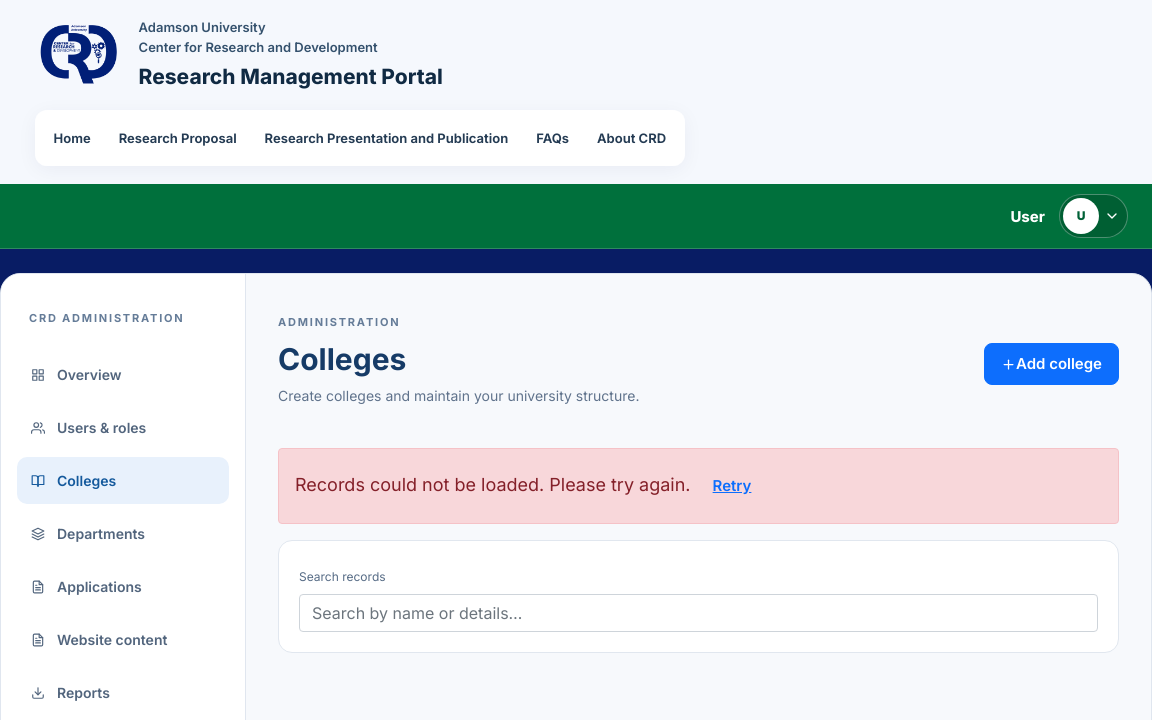
Scenario: a rejected section request stops the loader and can be retried
The width and height of the screenshot is (1152, 720).
Click the button "Retry": click(732, 486) left=696, top=466, right=768, bottom=508
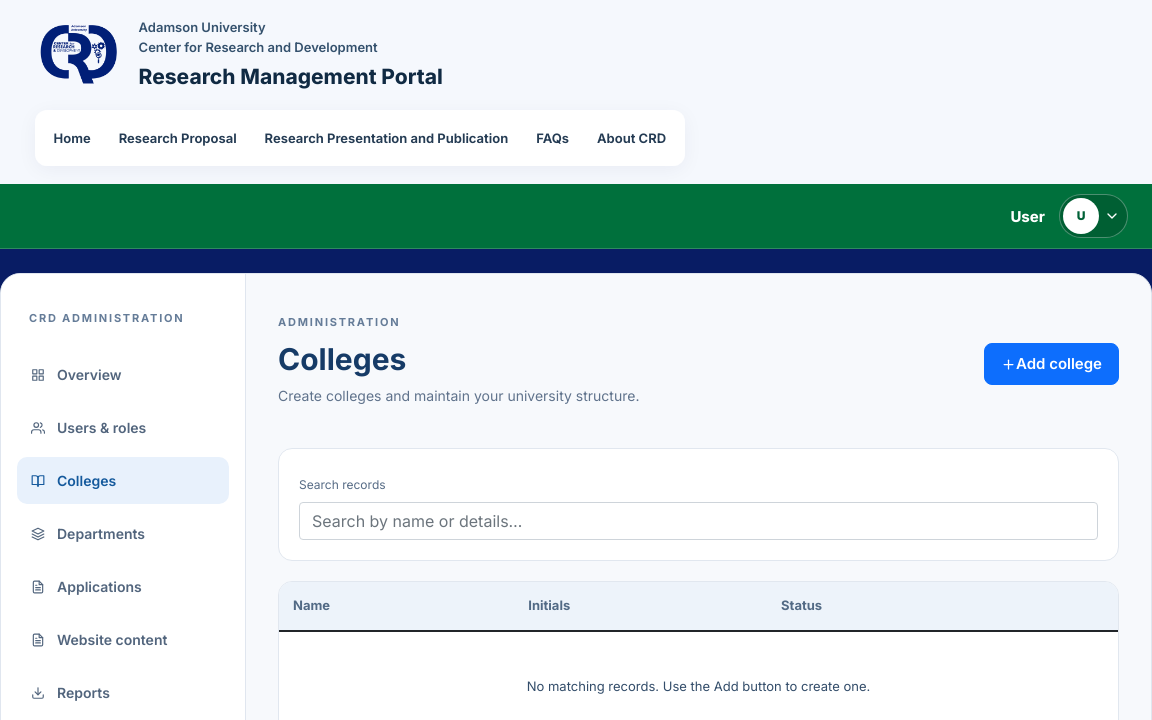
expect the text "No matching records." is shown: met, box left=527, top=678, right=663, bottom=694
